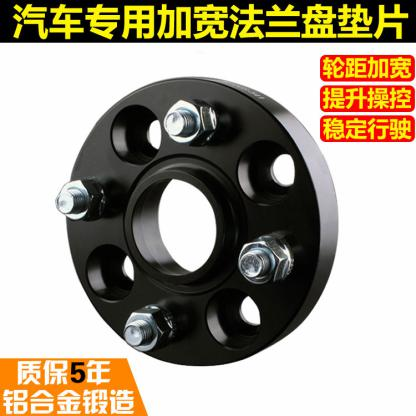FOD: (56, 74, 348, 365)
